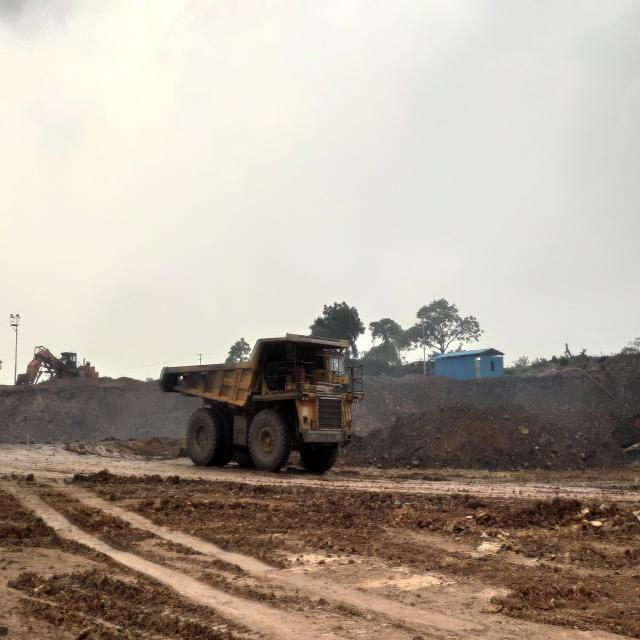dump_truck: (159, 335, 364, 478)
excavator: (14, 346, 101, 385)
